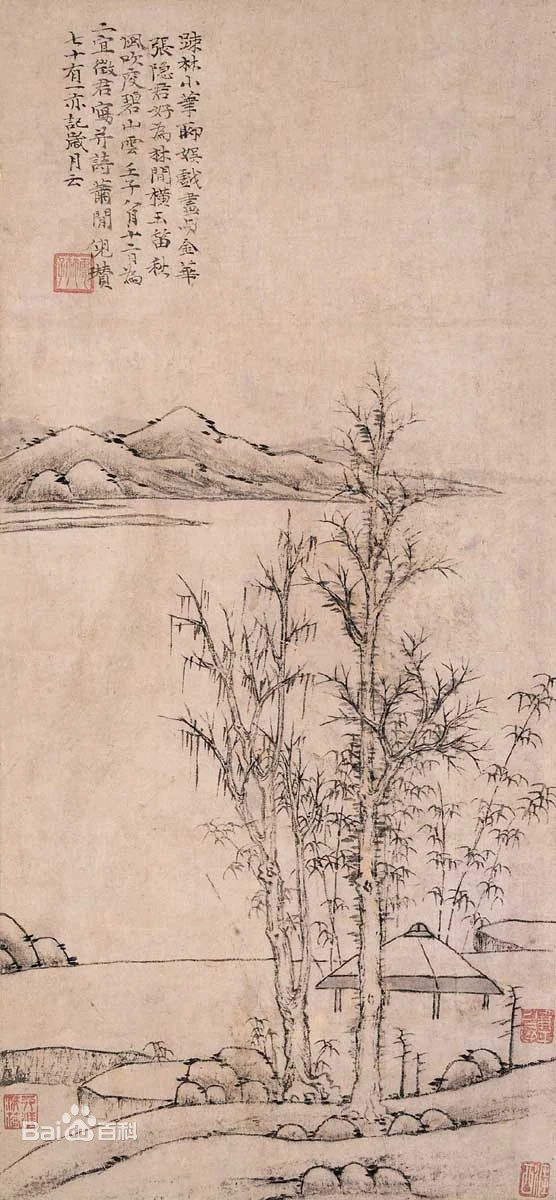bamboo: (172, 536, 343, 1103), (328, 361, 456, 1114), (428, 647, 556, 951)
booth: (325, 915, 500, 1021)
hill: (14, 408, 496, 514)
rock: (188, 1044, 295, 1108), (288, 1161, 432, 1197), (3, 906, 72, 978), (436, 1039, 510, 1092)
